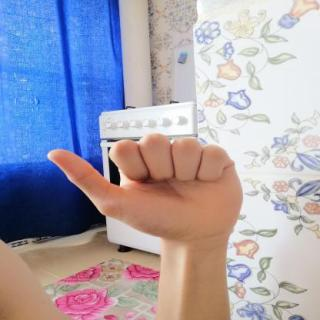DAD: (32, 127, 252, 248)
